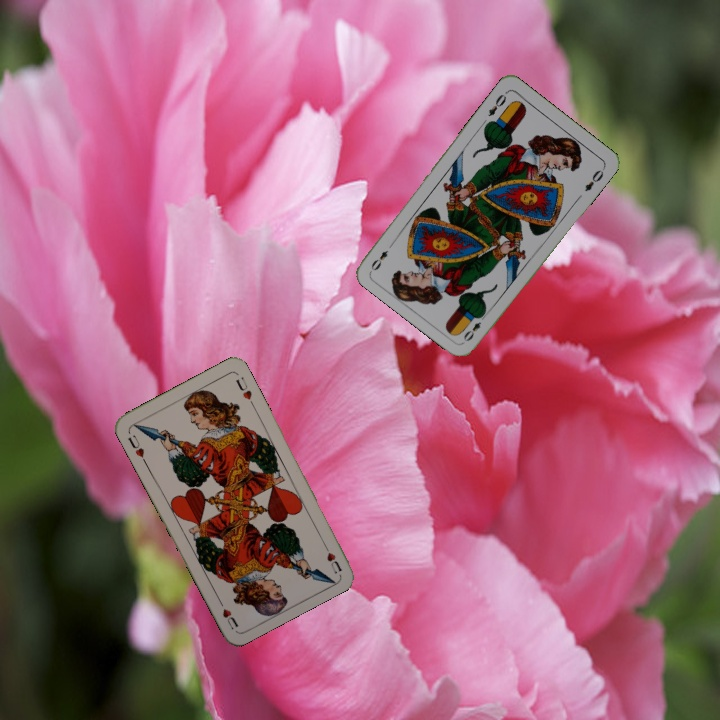EO: (459, 309, 489, 344), (484, 87, 510, 119)
HU: (319, 538, 344, 576), (124, 431, 149, 465)
